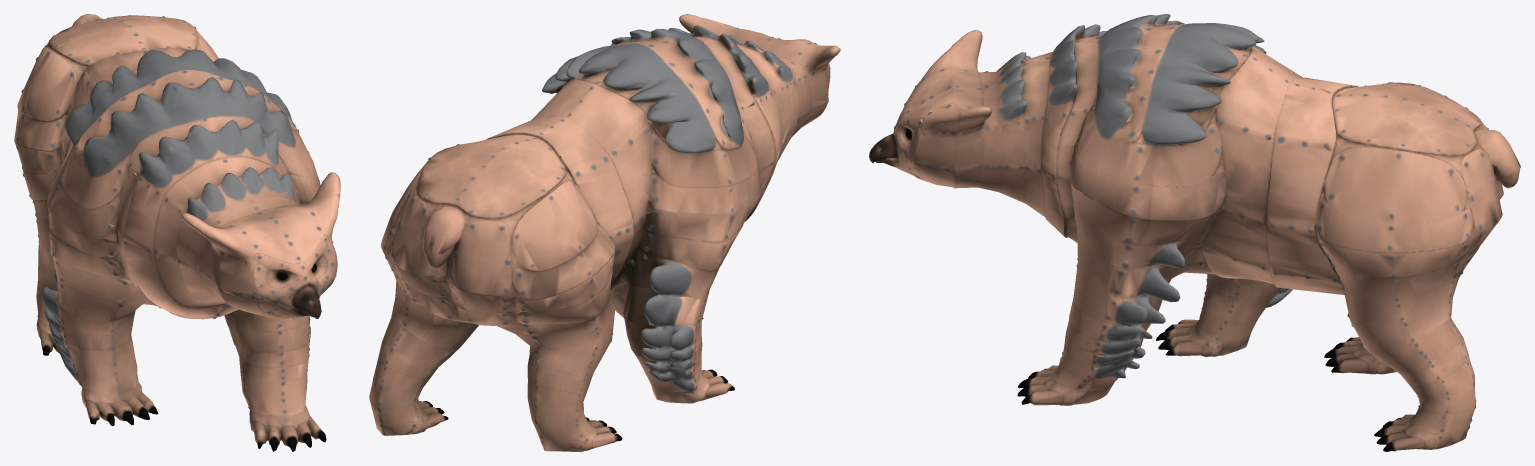
Rendered from MZ4250 - Clockwork Owlbear - Copper.glb.
The picture shows the model from 3 angles, left to right: view 1: azimuth 30°, elevation 25°; view 2: azimuth 150°, elevation 25°; view 3: azimuth 270°, elevation 25°; orthographic projection. The views are drawn at different scales.
Visible parts, largest first — view 1: Clockwork Owlbear_low.001; view 2: Clockwork Owlbear_low.001; view 3: Clockwork Owlbear_low.001.
Part boxes in pixels (x1,y1,x2,y2): Clockwork Owlbear_low.001: [14, 14, 340, 451]; Clockwork Owlbear_low.001: [369, 14, 840, 451]; Clockwork Owlbear_low.001: [869, 14, 1520, 451].
Bounding box in the file's own units: 1 × 1.17 × 2.
Materials: 1 (1 with a texture image).
